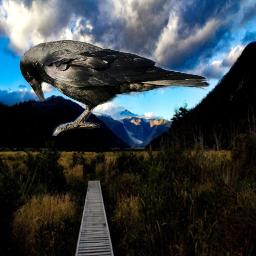Crow: (19, 39, 212, 136)
